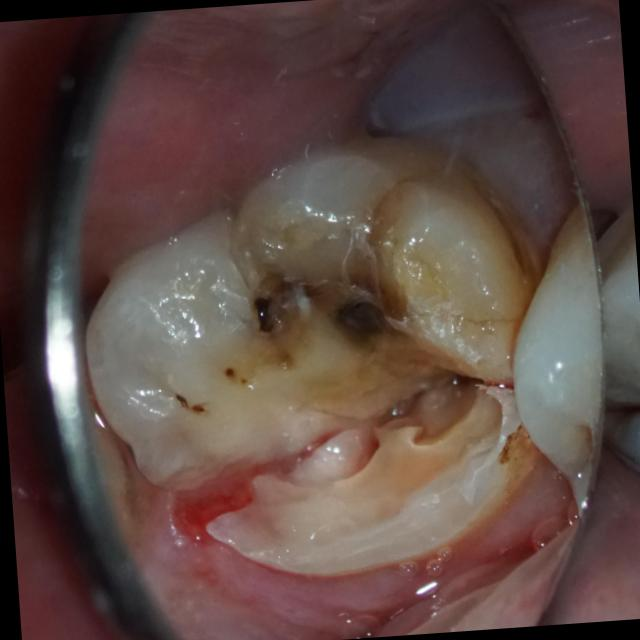Caries: (257, 297, 273, 329), (176, 395, 204, 413), (225, 368, 234, 377), (241, 378, 246, 383)
Cavity: (337, 303, 395, 342)
Crack: (162, 379, 475, 526)
Tooth: (90, 138, 534, 582)
